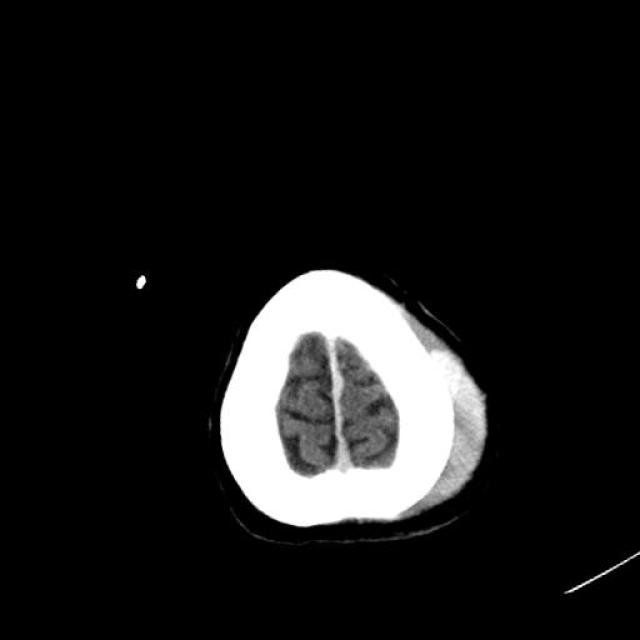Subdural: (281, 308, 411, 488)
